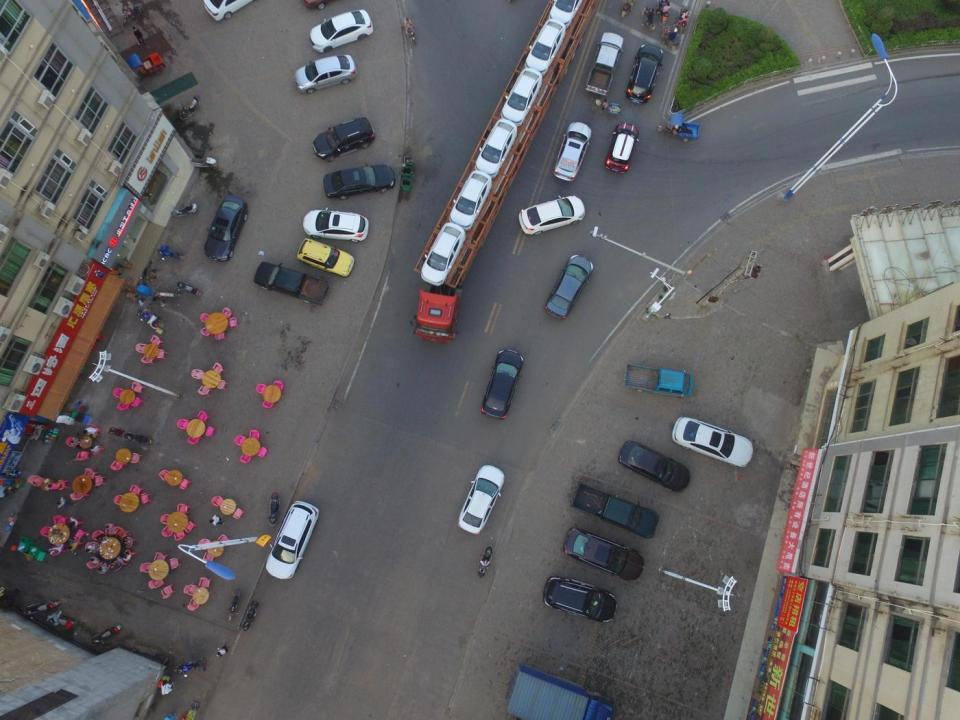car: (562, 528, 645, 581), (264, 501, 319, 580), (671, 416, 754, 468), (618, 440, 690, 494), (543, 574, 617, 622), (456, 463, 504, 535), (544, 253, 594, 320), (480, 349, 524, 420), (311, 116, 376, 162), (420, 222, 466, 287), (203, 196, 249, 261), (308, 9, 373, 53), (518, 194, 586, 236), (322, 162, 396, 199), (475, 118, 518, 180), (448, 170, 492, 230), (293, 54, 358, 93), (302, 207, 370, 244), (501, 67, 543, 126), (524, 18, 566, 77), (624, 44, 665, 104), (296, 237, 355, 277), (554, 121, 592, 182), (603, 122, 640, 174), (547, 0, 584, 28)
truck: (409, 0, 600, 344), (503, 661, 615, 720), (569, 481, 660, 539), (253, 261, 331, 306), (584, 31, 624, 96), (623, 363, 693, 398)
